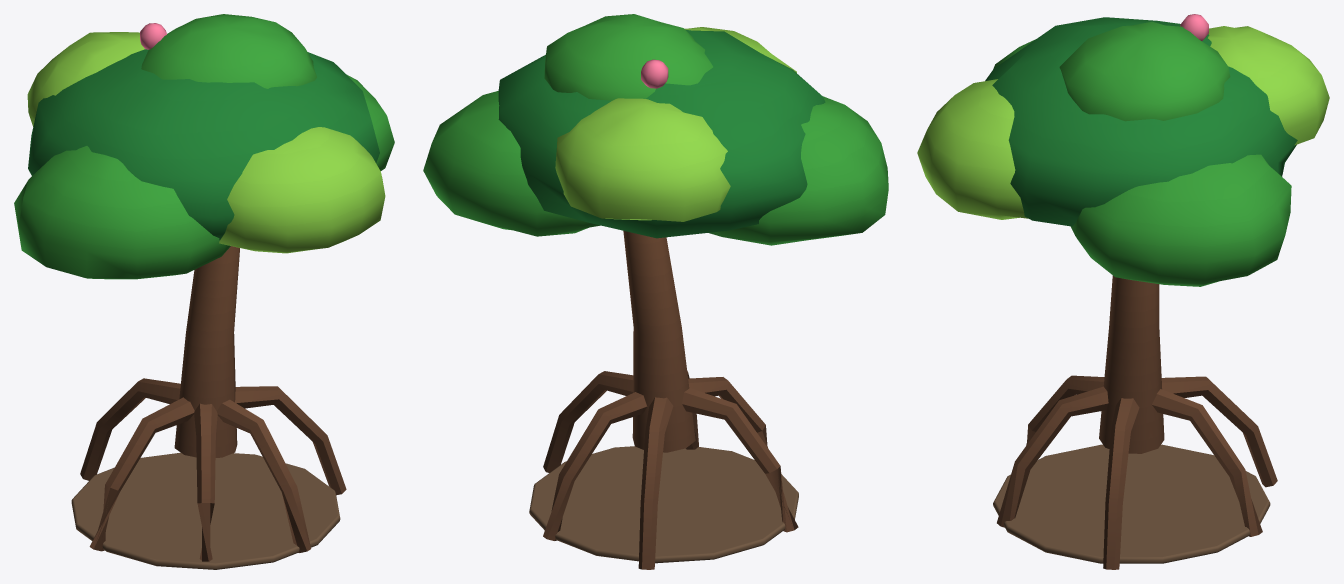
Rendered from jungle-tree.glb.
The picture shows the model from 3 angles, left to right: view 1: azimuth 30°, elevation 25°; view 2: azimuth 150°, elevation 25°; view 3: azimuth 270°, elevation 25°; orthographic projection. The views are drawn at different scales.
Parts seen in each view (by area): view 1: jungle-tree Leaf deep, jungle-tree Foliage, jungle-tree Bark, jungle-tree Warm rock shade, jungle-tree Lime leaf, jungle-tree Blossom; view 2: jungle-tree Foliage, jungle-tree Leaf deep, jungle-tree Bark, jungle-tree Warm rock shade, jungle-tree Lime leaf, jungle-tree Blossom; view 3: jungle-tree Foliage, jungle-tree Leaf deep, jungle-tree Bark, jungle-tree Warm rock shade, jungle-tree Lime leaf.
Boxes of the visible parts, box(x1,y1,x2,y2) form: jungle-tree Leaf deep: box(28, 49, 379, 240); jungle-tree Foliage: box(14, 14, 394, 279); jungle-tree Bark: box(80, 246, 346, 561); jungle-tree Warm rock shade: box(71, 452, 340, 569); jungle-tree Lime leaf: box(27, 32, 385, 253); jungle-tree Blossom: box(140, 23, 166, 49); jungle-tree Foliage: box(423, 14, 888, 245); jungle-tree Leaf deep: box(498, 29, 825, 238); jungle-tree Bark: box(543, 230, 798, 569); jungle-tree Warm rock shade: box(529, 446, 798, 563); jungle-tree Lime leaf: box(555, 27, 796, 221); jungle-tree Blossom: box(641, 59, 668, 88); jungle-tree Foliage: box(993, 21, 1291, 286); jungle-tree Leaf deep: box(985, 17, 1297, 226); jungle-tree Bark: box(997, 275, 1277, 569); jungle-tree Warm rock shade: box(993, 444, 1270, 563); jungle-tree Lime leaf: box(917, 26, 1329, 219).
Bounding box in the file's own units: 3.62 × 4.28 × 3.27.
6 materials, 6 textured.
